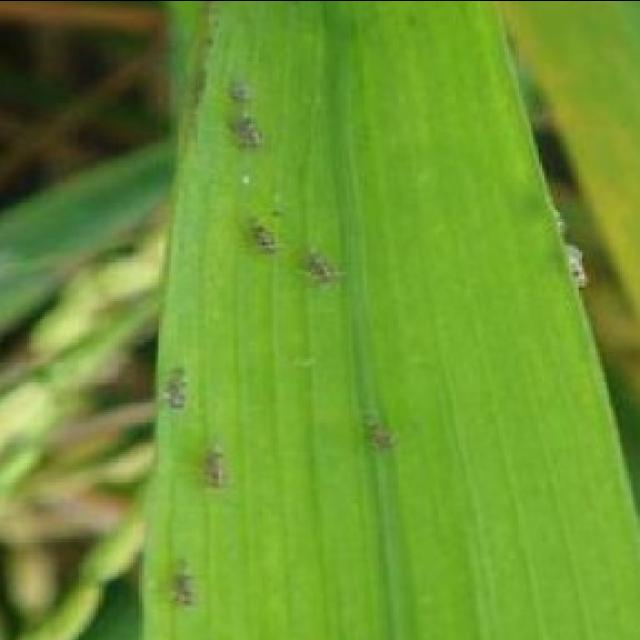brown plant hopper: (229, 78, 262, 144), (304, 251, 342, 282), (173, 558, 198, 604), (162, 364, 187, 407), (204, 442, 227, 487), (367, 416, 396, 449), (249, 224, 280, 251)
